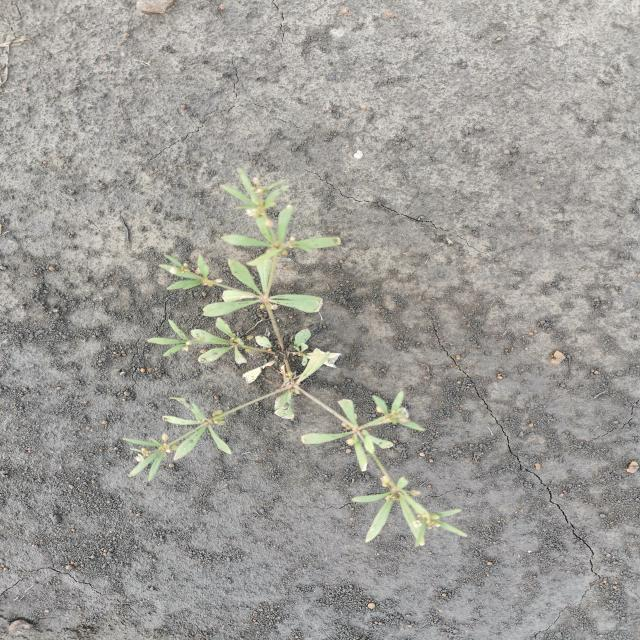Carpetweed: (117, 168, 473, 550)
